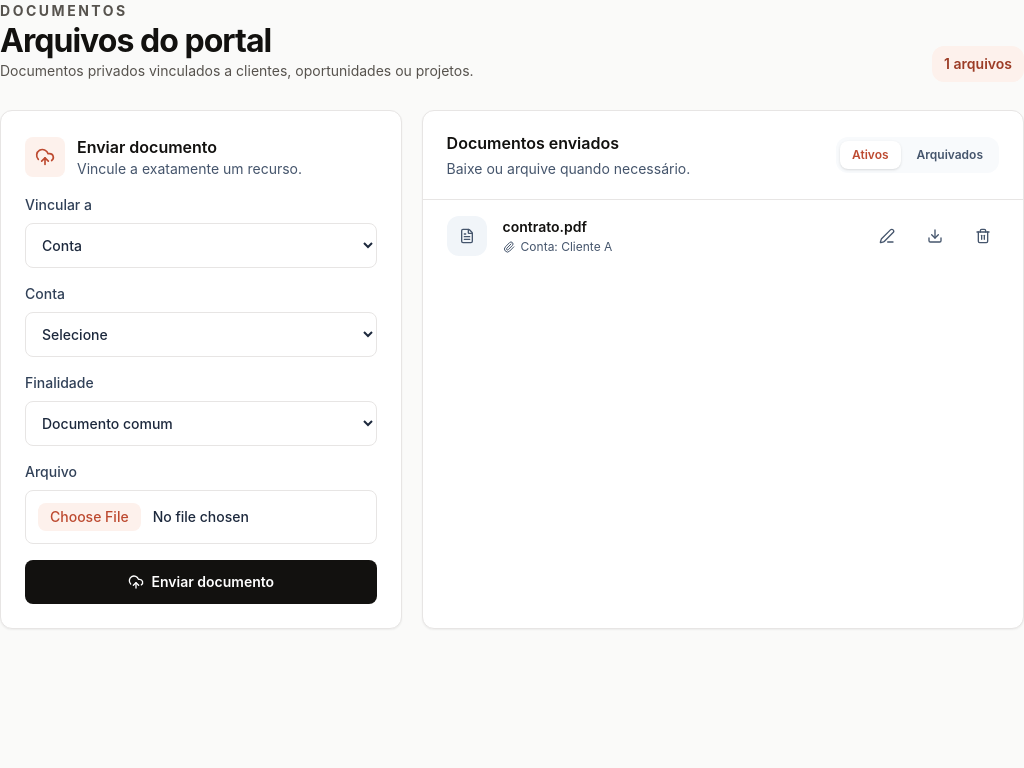
Scenario: escolher um contato monta a linha e o botão conta a casa junto
Check: the text "contrato.pdf" is shown, box 503,218 -> 587,235
Click the button named "Enviar contrato.pdf para assinatura" at (887, 236), box 871,220 -> 903,252
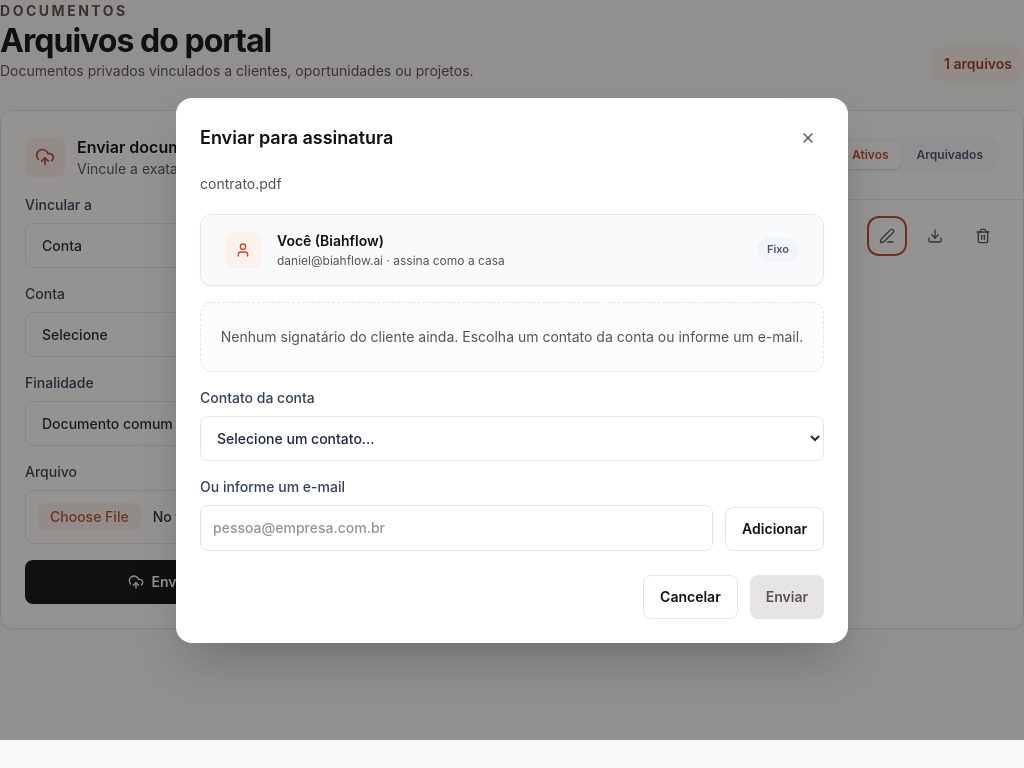
Check: the button "Enviar" is disabled, box 750,574 -> 824,618
Select "Fulano de Tal · fulano@homecare.com.br" in the dropdown labelled "Contato da conta" at (512, 438), box 200,416 -> 824,460
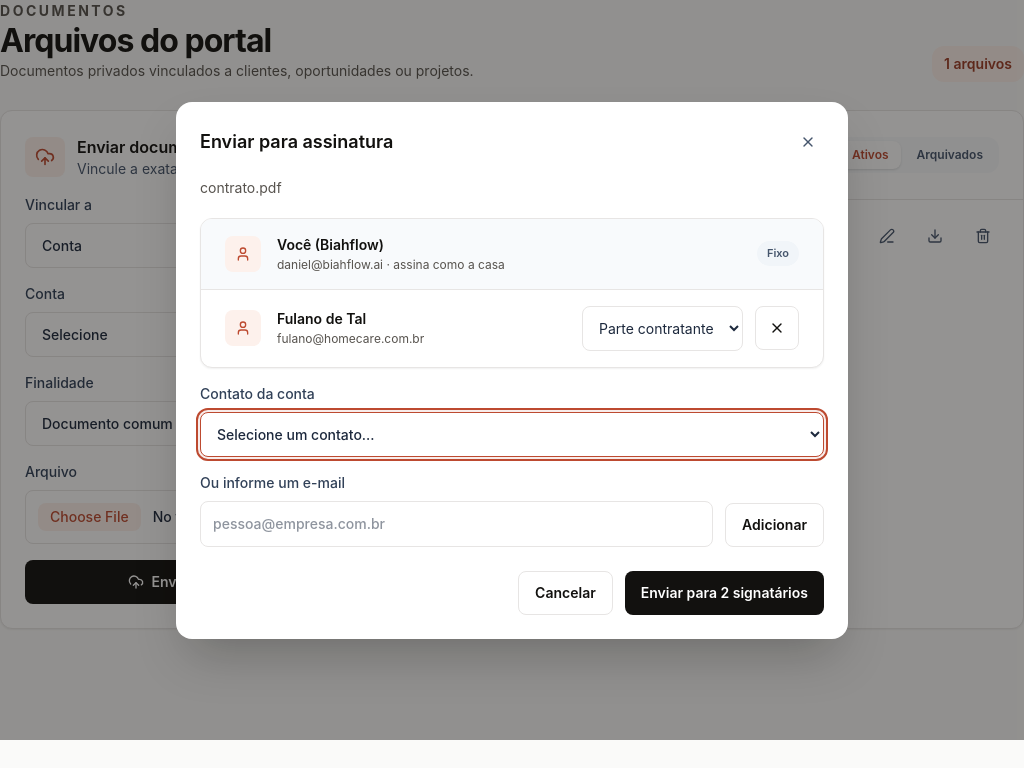
Check: the text "Fulano de Tal" is shown, box 277,310 -> 366,327
Check: the button "Enviar para 2 signatários" is enabled, box 625,570 -> 824,614
